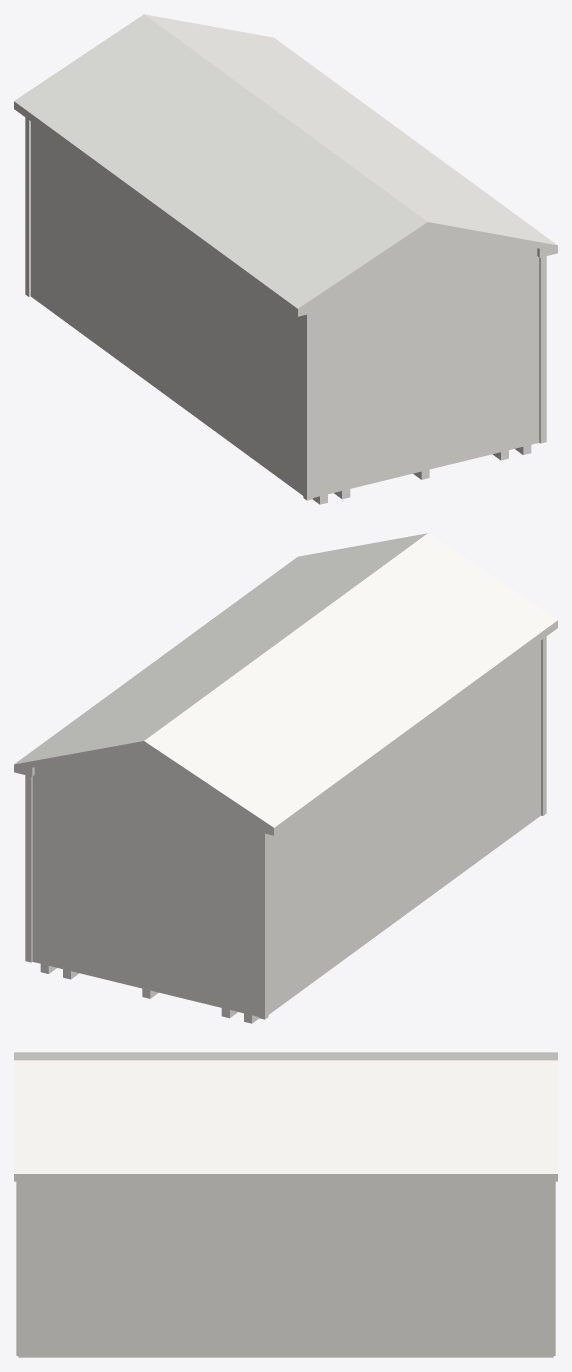
Rendered from 8 wide A-frame_7ft_10x20.obj.
3 renders of one model, top to bottom at view 1: azimuth 30°, elevation 25°; view 2: azimuth 150°, elevation 25°; view 3: azimuth 270°, elevation 25°, orthographic. The views are drawn at different scales.
Visible parts, largest first — view 1: Shed, Roof, Sides, Trim; view 2: Shed, Roof, Sides, Trim; view 3: Shed, Roof, Sides, Trim, Floor.
Boxes of the visible parts, x1=… form: Shed: x1=31, y1=122, x2=539, y2=497; Roof: x1=14, y1=14, x2=557, y2=308; Sides: x1=14, y1=101, x2=557, y2=316; Trim: x1=25, y1=117, x2=546, y2=500; Shed: x1=32, y1=641, x2=540, y2=1016; Roof: x1=14, y1=533, x2=557, y2=827; Sides: x1=14, y1=620, x2=557, y2=835; Trim: x1=25, y1=636, x2=546, y2=1019; Shed: x1=23, y1=1181, x2=548, y2=1355; Roof: x1=14, y1=1052, x2=557, y2=1173; Sides: x1=14, y1=1174, x2=557, y2=1181; Trim: x1=16, y1=1181, x2=555, y2=1355; Floor: x1=18, y1=1355, x2=553, y2=1357.
Bounding box in the file's own units: 3.28 × 3.12 × 6.2.
